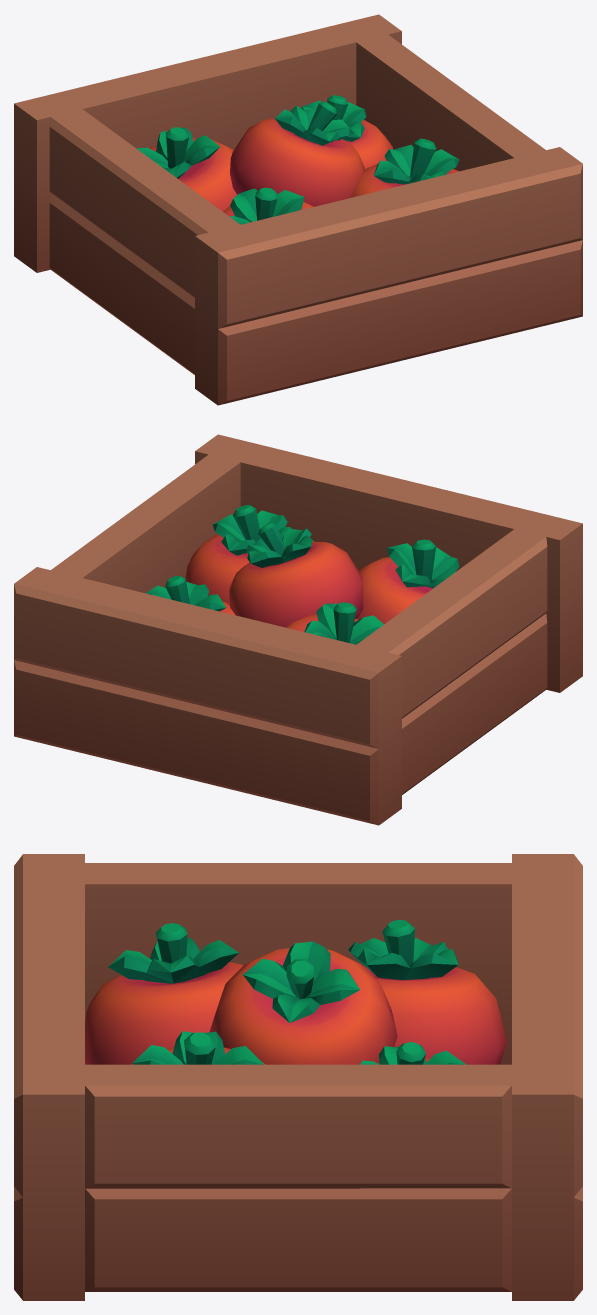
The model's file is crate_tomatoes.glb.
3 views of the same model, one above another, from view 1: azimuth 30°, elevation 25°; view 2: azimuth 150°, elevation 25°; view 3: azimuth 270°, elevation 25° (orthographic). The views are drawn at different scales.
Visible parts, largest first — view 1: crate_tomatoes_Cube.230; view 2: crate_tomatoes_Cube.230; view 3: crate_tomatoes_Cube.230.
Part boxes in pixels (<box>): crate_tomatoes_Cube.230: <box>14,14,582,405</box>; crate_tomatoes_Cube.230: <box>14,434,582,825</box>; crate_tomatoes_Cube.230: <box>14,854,582,1300</box>.
Bounding box in the file's own units: 2 × 0.9233 × 2.
1 material, 1 textured.
